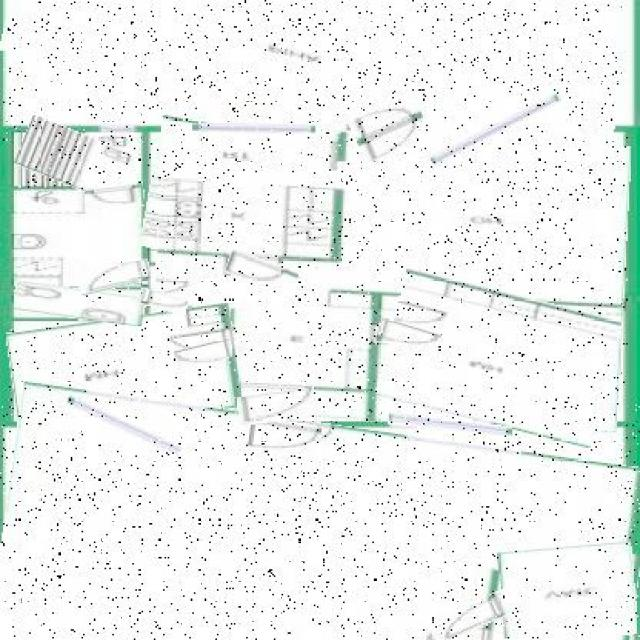door: (352, 97, 430, 161), (429, 592, 526, 636), (224, 255, 298, 291), (249, 420, 320, 457), (238, 391, 316, 423), (376, 321, 446, 354), (78, 262, 151, 292), (86, 183, 145, 209), (175, 342, 232, 366), (138, 291, 188, 312)
window: (428, 106, 563, 149), (63, 406, 183, 445), (388, 417, 512, 434), (192, 125, 316, 134), (102, 123, 123, 131)
zone: (0, 403, 640, 640), (152, 129, 628, 428), (3, 0, 625, 160), (382, 280, 616, 435), (9, 311, 240, 431), (145, 122, 332, 269), (498, 544, 633, 640), (17, 126, 140, 197), (15, 285, 144, 323)
